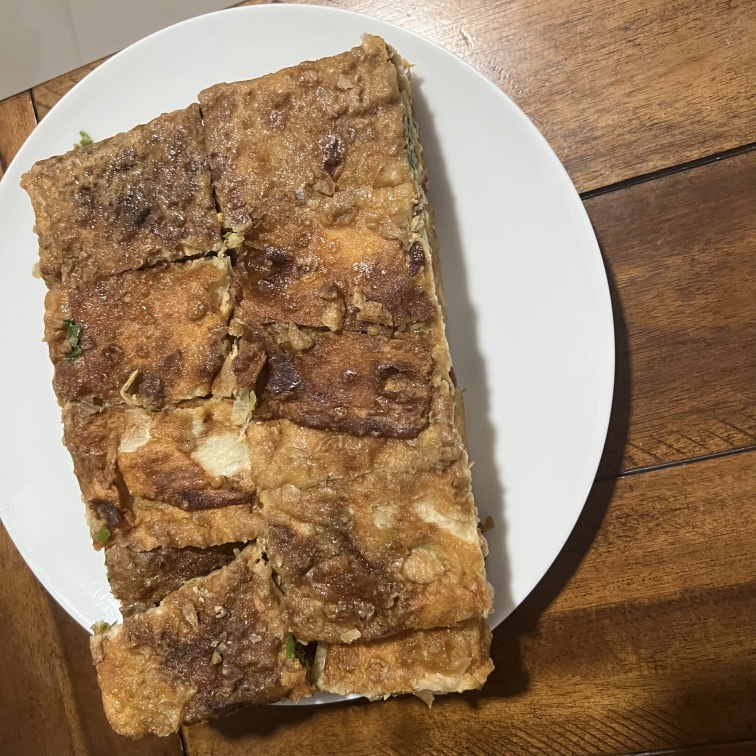martabak telor: (251, 403, 492, 639), (209, 51, 446, 224), (67, 539, 294, 716), (231, 221, 443, 383), (24, 257, 239, 395), (20, 108, 227, 251), (57, 391, 252, 531)
